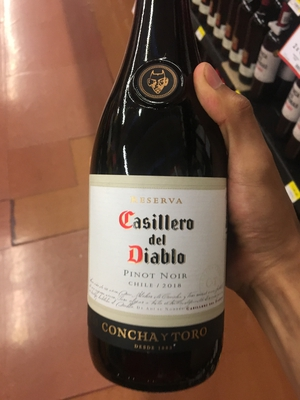casillero del diablo pinot noir: (76, 4, 239, 391)
